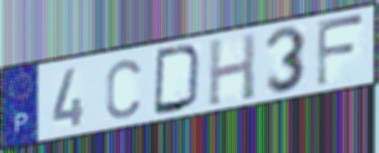3: (264, 25, 310, 96)
4: (51, 66, 86, 129)
C: (103, 57, 143, 122)
D: (152, 43, 205, 117)
F: (315, 12, 368, 90)
H: (206, 30, 258, 109)
